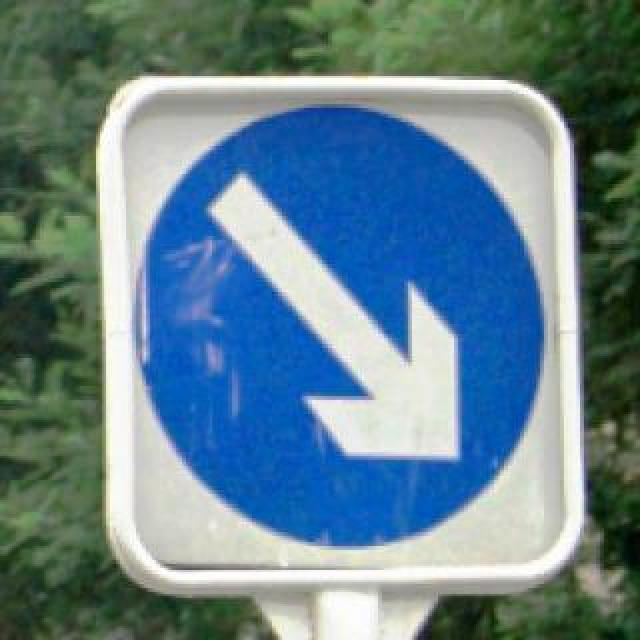keep right: (130, 104, 548, 552)
